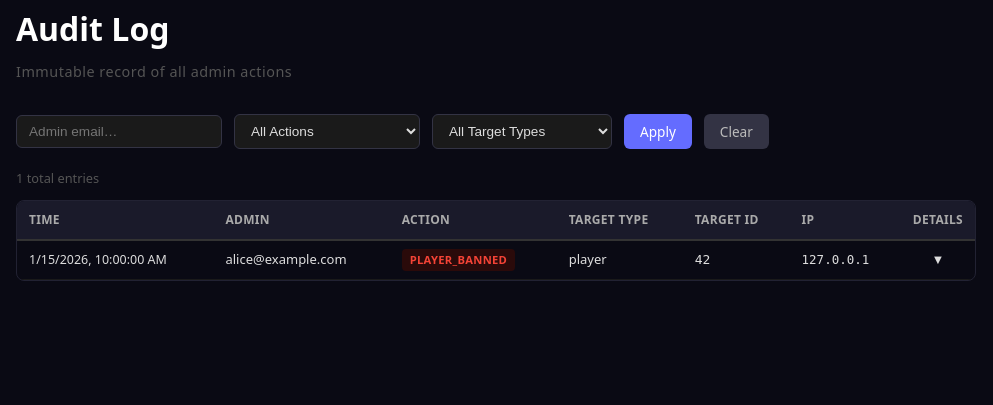
it: AuditLog › collapses detail on second click
The image size is (993, 405).
Expected: the text "alice@example.com" is shown, 214,240 -> 390,280
Step 1. Click the row that starts with "1/15/2026, 10:00:00 AM" → {"x": 496, "y": 260}, box 17,240 -> 975,280
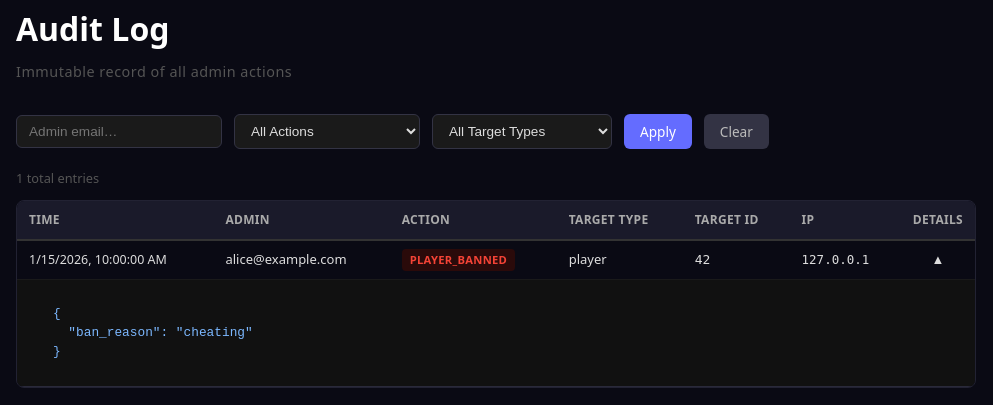
Expected: the text "{ \"ban_reason\": \"cheating\" }" is shown, 53,306 -> 253,359
Step 2. Click the row that starts with "1/15/2026, 10:00:00 AM" → {"x": 496, "y": 260}, box 17,240 -> 975,280
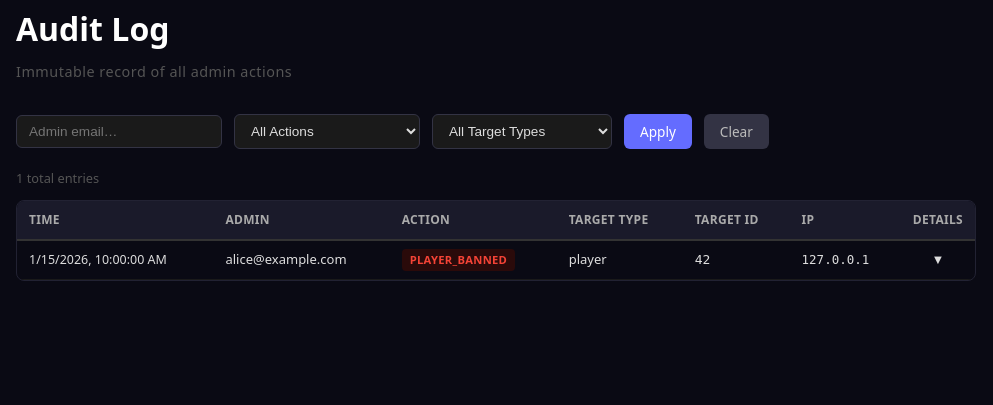
Expected: the text "cheating" is gone
